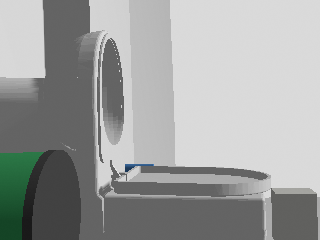lid_1: (113, 165, 270, 196)
